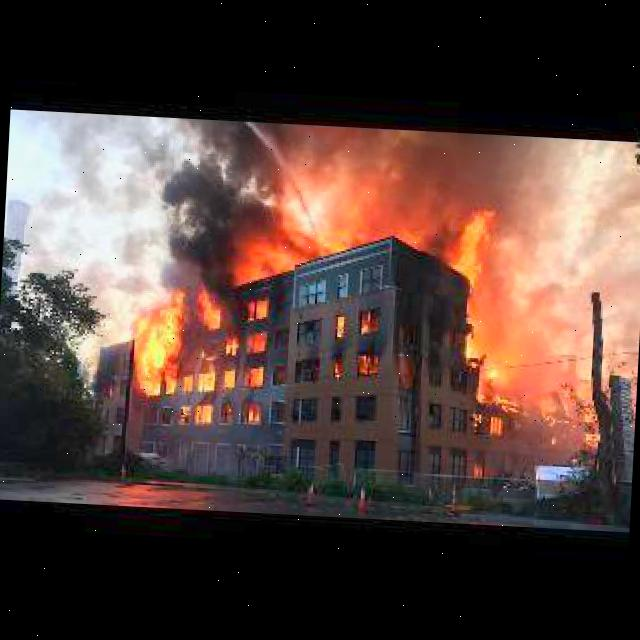fire: (189, 119, 326, 260), (376, 129, 540, 236), (164, 166, 255, 326), (130, 280, 220, 426), (400, 216, 456, 328), (454, 199, 500, 287), (328, 307, 378, 373), (468, 384, 524, 435), (220, 331, 241, 394), (240, 396, 262, 425)
